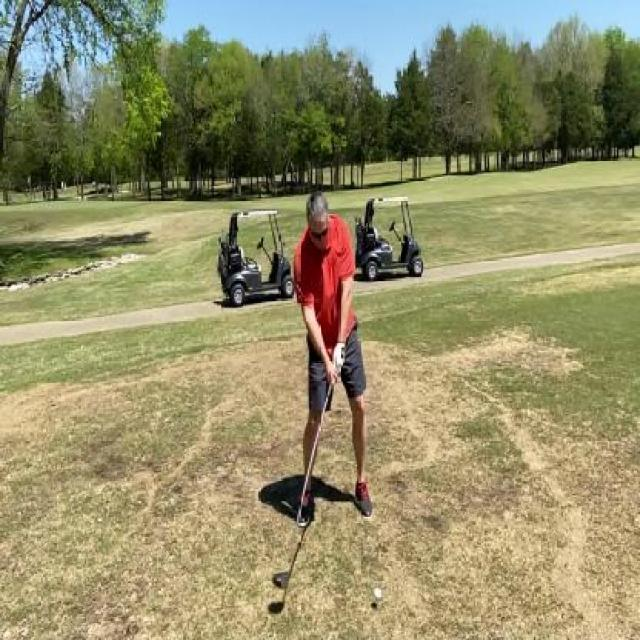club head: (272, 558, 290, 591)
